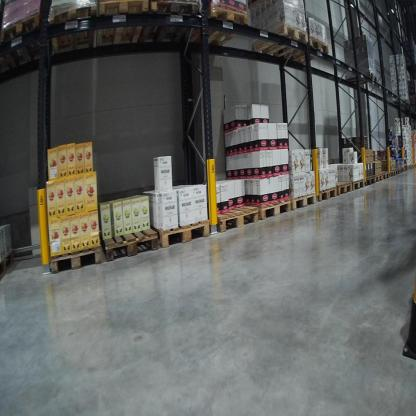pallet: (1, 9, 51, 291), (130, 1, 205, 53), (180, 4, 252, 57), (44, 5, 99, 69), (96, 216, 160, 264), (96, 1, 150, 56), (46, 228, 108, 275), (146, 214, 214, 250), (247, 25, 308, 56), (281, 34, 331, 71), (240, 192, 291, 226), (212, 199, 260, 233), (291, 188, 319, 216), (335, 70, 378, 87), (332, 178, 353, 199), (317, 185, 339, 203), (353, 175, 366, 192), (364, 175, 376, 188), (380, 170, 391, 184), (374, 173, 385, 186), (390, 170, 397, 179), (395, 168, 400, 177)
